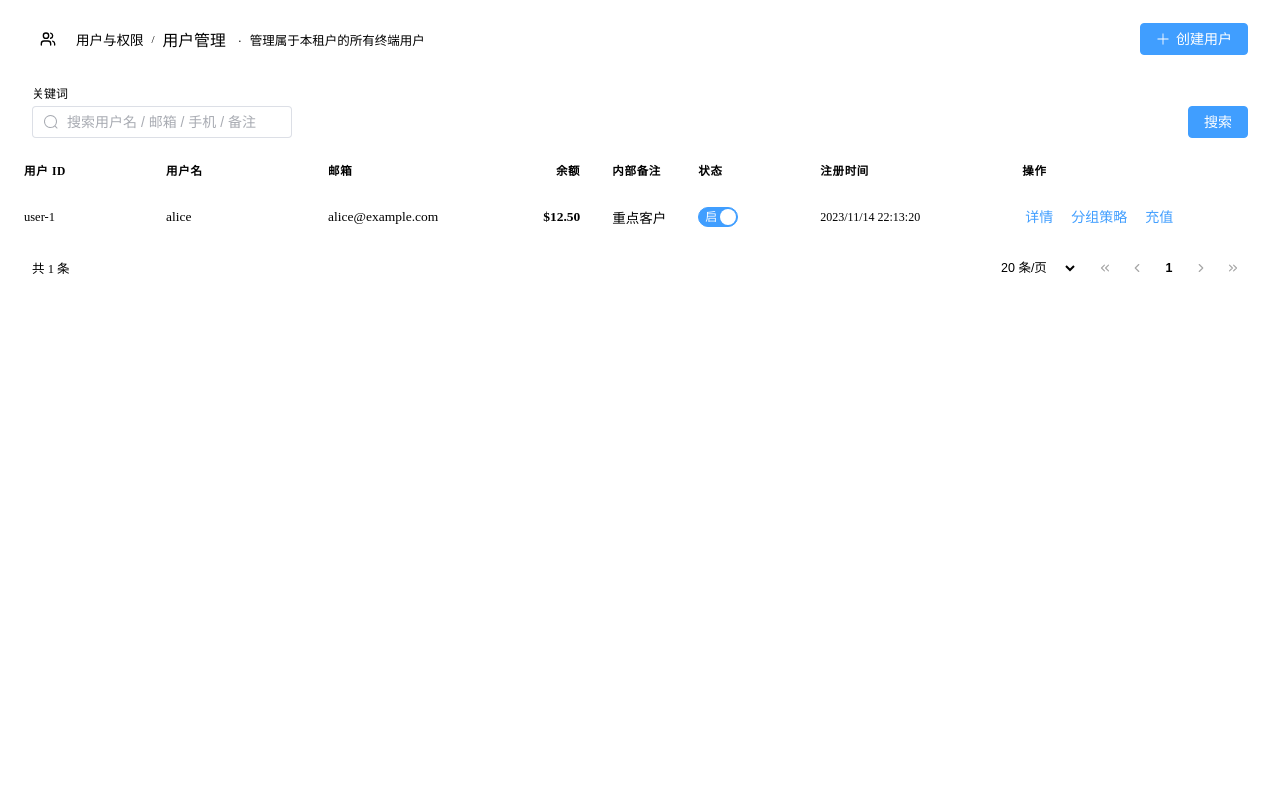
Test: tenant user management › opens group policy as an action scoped to the selected user
This screenshot has width=1280, height=800.
Click the button "分组策略".
click(1099, 217)  # box [1068,207,1130,227]
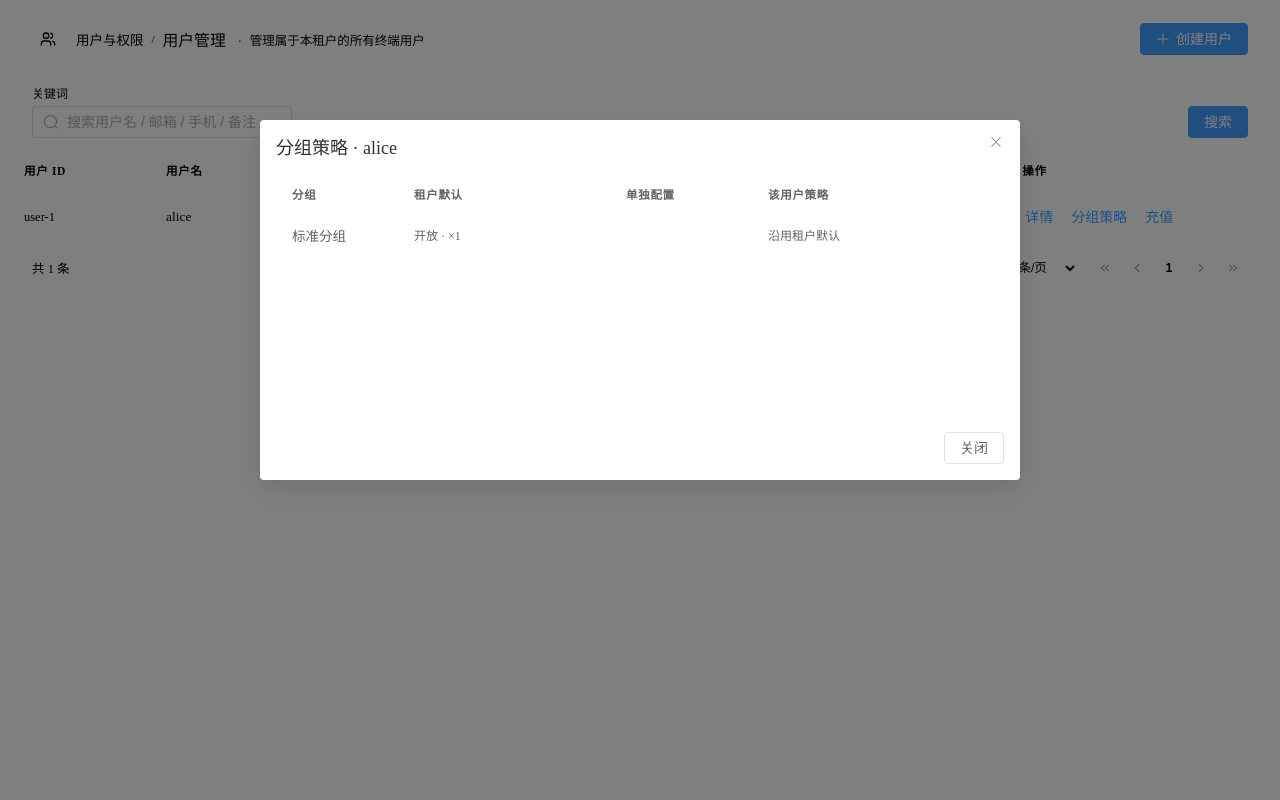
Check: the text "分组策略 · alice" is shown, box [276,138,397,158]
Check: the text "租户默认" is shown, box [398,176,610,212]
Check: the text "单独配置" is shown, box [610,176,752,212]
